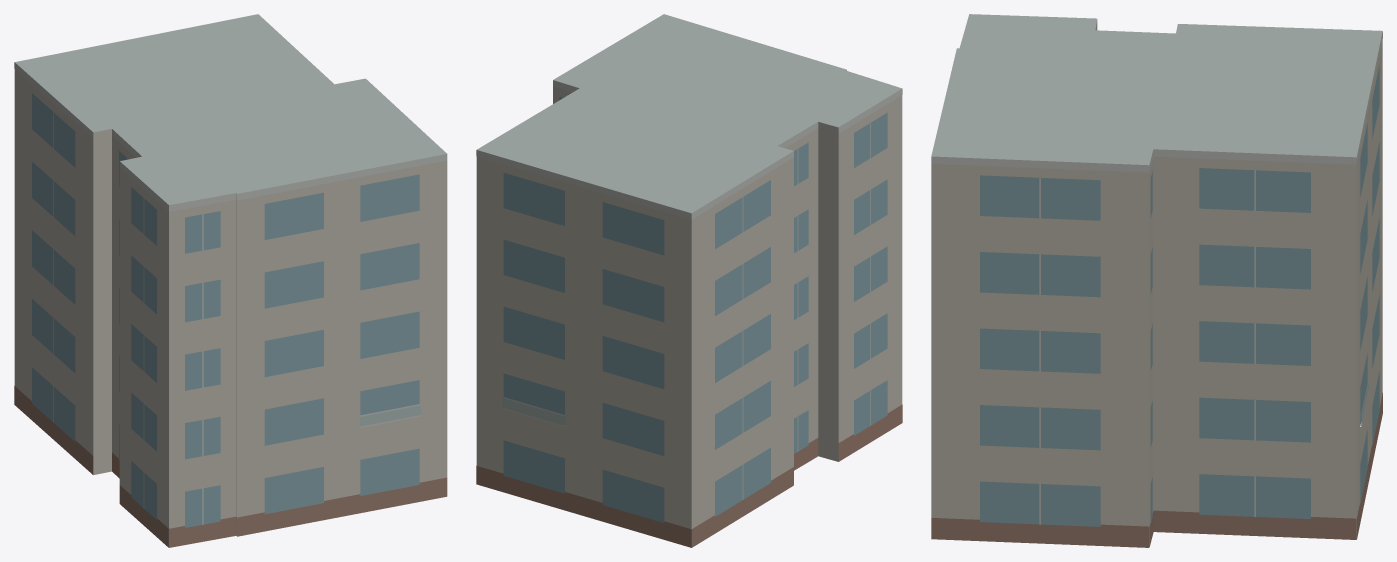
File: survey-upis-33037042.glb
The picture shows the model from 3 angles, left to right: view 1: azimuth 30°, elevation 25°; view 2: azimuth 150°, elevation 25°; view 3: azimuth 270°, elevation 25°; orthographic projection. The views are drawn at different scales.
Visible parts, largest first — view 1: survey-upis-33037042.tmp; view 2: survey-upis-33037042.tmp; view 3: survey-upis-33037042.tmp.
Part boxes in pixels (box(x1,y1,x2,y2)): survey-upis-33037042.tmp: box(14, 14, 447, 547); survey-upis-33037042.tmp: box(476, 14, 902, 547); survey-upis-33037042.tmp: box(931, 14, 1382, 547).
Bounding box in the file's own units: 10.77 × 12.7 × 13.59.
